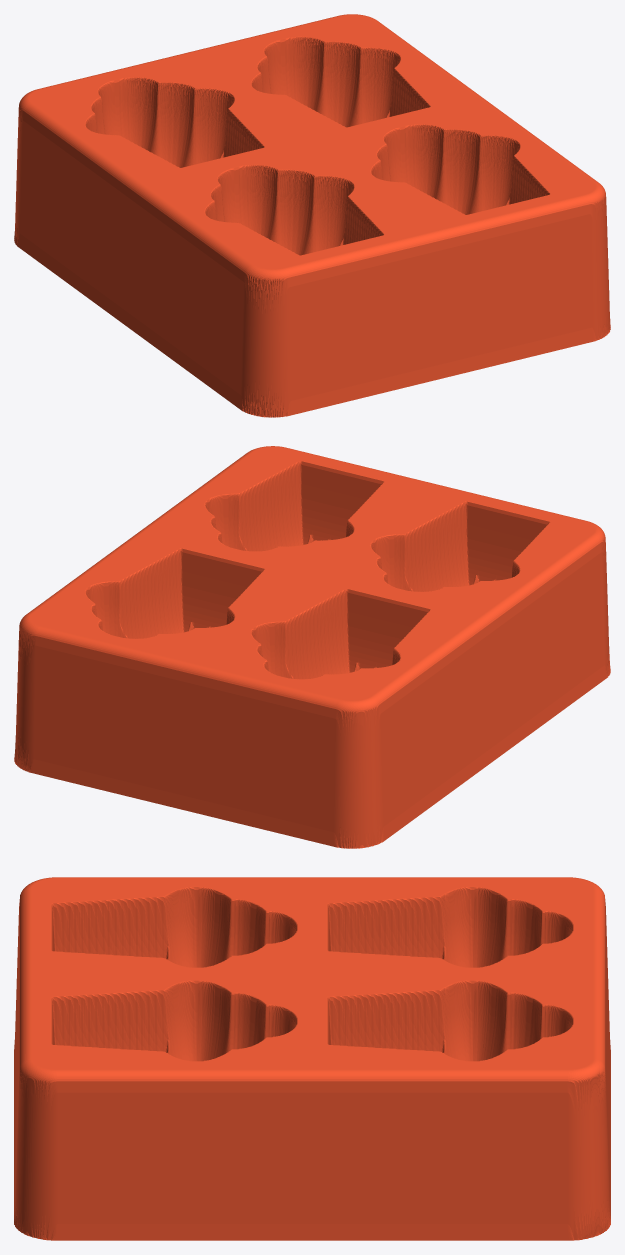
Rendered from mold.glb.
The picture shows the model from 3 angles, top to bottom: view 1: azimuth 30°, elevation 25°; view 2: azimuth 150°, elevation 25°; view 3: azimuth 270°, elevation 25°; orthographic projection. The views are drawn at different scales.
Visible parts, largest first — view 1: geometry_0; view 2: geometry_0; view 3: geometry_0.
Boxes of the visible parts, x1,y1,x2,y2 form: geometry_0: (14, 14, 610, 417); geometry_0: (14, 446, 610, 848); geometry_0: (14, 877, 610, 1240).
Size of the model in its own units: 0.1019 by 0.0377 by 0.1248.
